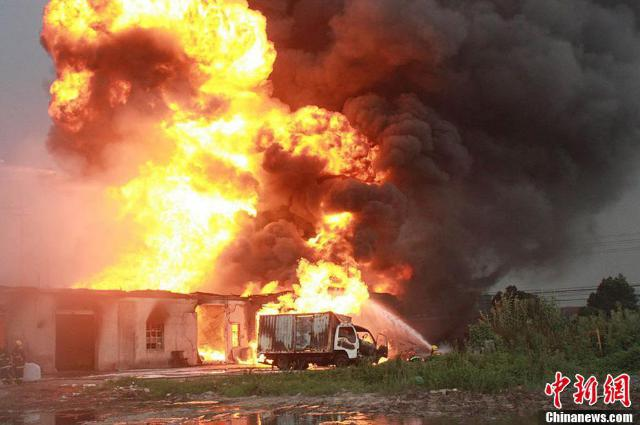fire: (188, 0, 270, 94), (112, 168, 184, 227), (120, 229, 226, 269), (294, 260, 368, 315), (166, 114, 242, 155), (50, 67, 90, 129), (42, 0, 98, 44), (327, 114, 367, 175), (110, 0, 187, 31), (74, 270, 200, 288), (274, 104, 326, 145), (188, 195, 252, 228), (315, 211, 351, 246), (228, 94, 284, 116), (374, 266, 402, 294), (224, 153, 254, 174), (196, 342, 224, 361), (242, 279, 278, 292), (276, 291, 294, 315), (255, 301, 275, 314), (228, 321, 238, 345), (248, 338, 256, 362), (237, 354, 246, 362)
